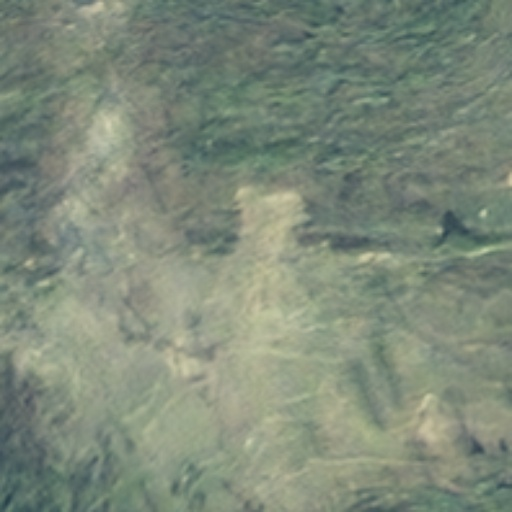landslide: (224, 184, 317, 307)
